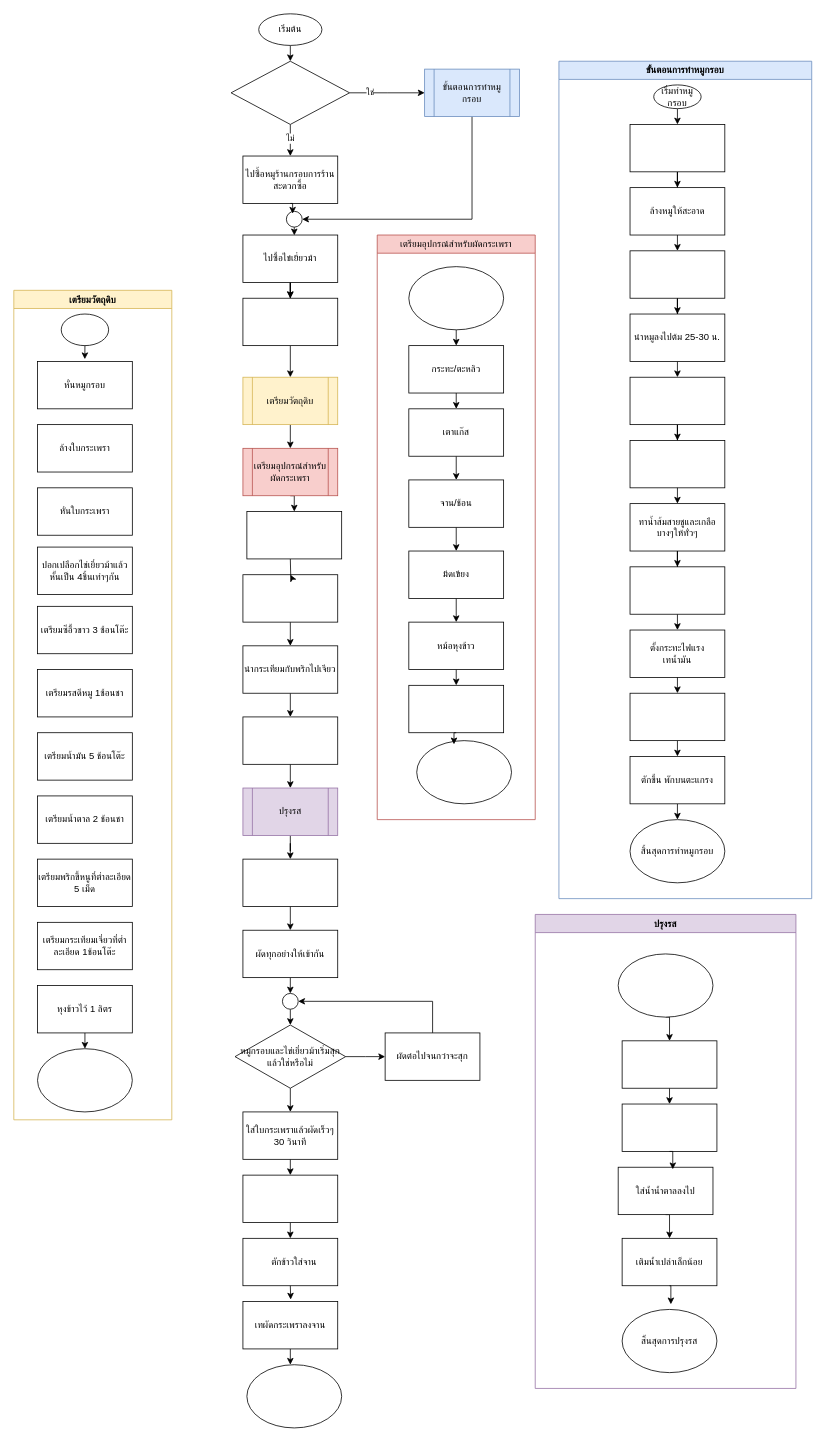
The diagram is 826 pixels wide and 1442 high, and some of its shapes have lost their labels. The shapes that lost their labels are listed below. From the top down, each one's centre as x and y in pixels, then its label:
At point 290,92: "ต้องทำหมูกรอบเองไหม?".
At point 677,148: "ไปซื้อหมูสามชั้นติดหนังที่ตลาด".
At point 677,274: "ต้มน้ำให้เดือดใส่เกลือเล็กน้อย".
At point 456,298: "เริ่มต้น เตรียมอุปกรณ์สำหรับผัดกระเพรา".
At point 84,329: "เริ่มต้นเตรียม วัตุดิบ".
At point 290,321: "ไปซื้อใบกระเพรา".
At point 677,400: "ตักขึ้นผึ่งให้เย็น".
At point 677,464: "ใส่ส้อมจิ้มหนังหมูให้ทั่ว".
At point 294,535: "ตั้งกระทะ".
At point 290,598: "เติมน้ำมันลงในกระทะ".
At point 677,590: "ผึ่งไว้แบบไม่ปิดฝา 2-3 ชั่วโมง".
At point 456,709: "ทัพพี".
At point 677,716: "น้ำหมูกรอบไปทอดจนหนังพอง".
At point 290,740: "ใส่หมูกรอบลงไป ผัดให้เข้ากัน".
At point 464,772: "สิ้นสุดการเตรียมอุปกรณ์".
At point 290,882: "ใส่ไข่เยียวม้า".
At point 665,985: "เริ่มต้นปรุงรส".
At point 84,1080: "สิ้นสุดการเตรียมวัตถุดิบ".
At point 669,1064: "เทซีอิ้วขาวลงไป".
At point 669,1127: "ใส่รสดีลงไป".
At point 290,1198: "ปิดไฟ".
At point 294,1396: "สิ้นสุด".
